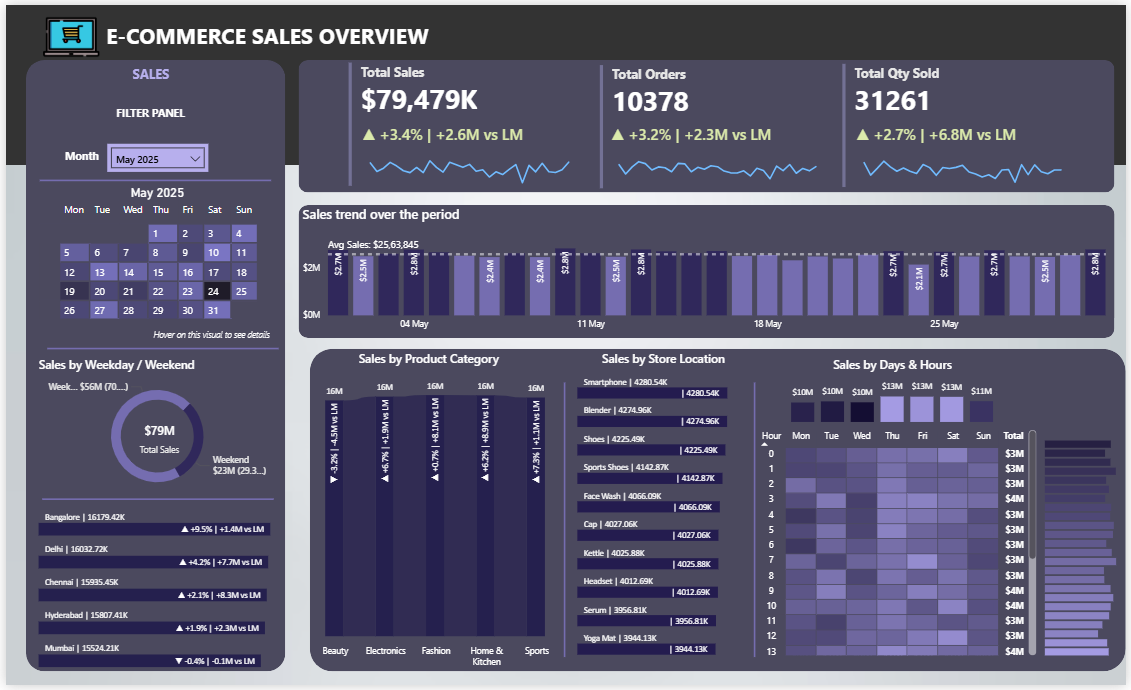

This screenshot's page, from the dashboard's own definition file:
{"tool":"powerbi","page":{"name":"Page 1","canvas":[1400,850],"ordinal":0},"visuals":[{"type":"shape","box":[0,0,1400,200],"z":0},{"type":"shape","box":[25.7,68.6,324.3,764.3],"z":1000},{"type":"shape","box":[365.7,68.6,1020,165.7],"z":2000},{"type":"textbox","box":[120,15,521.7,65],"z":3000},{"type":"cardVisual","fields":{"Data":["transactions.Total Sales"]},"box":[423.9,67.6,276.1,164.8],"z":4000},{"type":"slicer","fields":{"Values":["Date Table.month year"]},"box":[126.7,173.3,126.7,35],"z":5000},{"type":"lineChart","fields":{"Category":["Date Table.Date.Variation.Date Hierarchy.Year","Date Table.Date.Variation.Date Hierarchy.Quarter","Date Table.Date.Variation.Date Hierarchy.Month","Date Table.Date.Variation.Date Hierarchy.Day"],"Y":["transactions.Total Sales"]},"box":[441.2,148.5,277.9,85.3],"z":6000},{"type":"cardVisual","fields":{"Data":["transactions.Total Orders"]},"box":[738,70.4,276.1,164.8],"z":7000},{"type":"lineChart","fields":{"Category":["Date Table.Date.Variation.Date Hierarchy.Year","Date Table.Date.Variation.Date Hierarchy.Quarter","Date Table.Date.Variation.Date Hierarchy.Month","Date Table.Date.Variation.Date Hierarchy.Day"],"Y":["transactions.Total Orders"]},"box":[752.1,147.9,276.1,85.9],"z":8000},{"type":"cardVisual","fields":{"Data":["transactions.Total_qty_sold"]},"box":[1040.8,69,276.1,164.8],"z":9000},{"type":"lineChart","fields":{"Category":["Date Table.Date.Variation.Date Hierarchy.Year","Date Table.Date.Variation.Date Hierarchy.Quarter","Date Table.Date.Variation.Date Hierarchy.Month","Date Table.Date.Variation.Date Hierarchy.Day"],"Y":["transactions.Total Qty Sold"]},"box":[1057.7,147.9,276.1,85.9],"z":10000},{"type":"pivotTable","fields":{"Columns":["Date Table.Day Name"],"Values":["Min(Date Table.Day Number)"],"Rows":["Date Table.Week Number"]},"box":[36.9,238.5,306.2,190.8],"z":11000},{"type":"card","fields":{"Values":["Min(Date Table.Month Year)"]},"box":[120,220,138.5,29.2],"z":12000},{"type":"card","fields":{"Values":["transactions.Foot Note"]},"box":[173.8,400,167.7,29.2],"z":13000},{"type":"shape","box":[52.3,413.8,289.2,30.8],"z":14000},{"type":"shape","box":[41.5,203.1,289.2,32.3],"z":15000},{"type":"donutChart","title":"Sales by Weekday / Weekend","fields":{"Category":["Date Table.Weekday / Weekend"],"Y":["transactions.Total Sales"]},"box":[36.7,438.3,306.7,180],"z":16000},{"type":"card","fields":{"Values":["transactions.Total Sales"]},"box":[145,511.7,93.3,61.7],"z":17000},{"type":"shape","box":[44.6,601.5,289.2,32.3],"z":18000},{"type":"clusteredBarChart","title":"Sales by Store Location","fields":{"Category":["transactions.store_location"],"Y":["transactions.Paceholder","transactions.Total Sales"]},"box":[35.4,618.5,330.8,215.4],"z":19000},{"type":"shape","box":[366.2,250.8,1020,166.2],"z":20000},{"type":"columnChart","title":"Sales trend over the period","fields":{"Category":["transactions.transaction_date"],"Y":["transactions.Total Sales"]},"box":[366.2,250.8,1020,166.2],"z":21000},{"type":"shape","box":[380,430,1020,403.3],"z":22000},{"type":"ribbonChart","title":"Sales by Product Category","fields":{"Category":["transactions.product_category"],"Y":["transactions.Paceholder","transactions.Total Sales"]},"box":[350,431.7,356.7,405],"z":23000},{"type":"clusteredBarChart","title":"Sales by Store Location","fields":{"Category":["transactions.product_type"],"Y":["transactions.Paceholder","transactions.Total Sales"]},"box":[710,431.7,225,386.7],"z":24000},{"type":"shape","box":[676.7,471.7,43.3,343.3],"z":25000},{"type":"pivotTable","fields":{"Rows":["transactions.Hour"],"Columns":["Date Table.Day Name"],"Values":["transactions.Total Sales"]},"box":[935,526.7,358.3,291.7],"z":26000},{"type":"barChart","fields":{"Category":["transactions.Hour"],"Y":["transactions.Total Sales"]},"box":[1293.3,531.7,106.7,310],"z":27000},{"type":"shape","box":[913.3,471.7,43.3,343.3],"z":28000},{"type":"columnChart","title":"Sales by Days & Hours","fields":{"Y":["transactions.Total Sales"],"Category":["Date Table.Day Name"]},"box":[976.7,438.3,263.3,88.3],"z":29000},{"type":"textbox","box":[68.3,175,58.3,33.3],"z":30000},{"type":"textbox","box":[133.3,120,105,33.3],"z":31000},{"type":"textbox","box":[153.3,70,105,33.3],"z":32000},{"type":"image","box":[36.7,0,91.7,80],"z":33000}]}

Visuals, with their boxes in screenshot pixels (x1, y1, x2, y2), scaled from the page's 1400x850 canvas onto the 1131x690 screenshot:
shape: 0,0,1130,162
shape: 21,56,283,676
shape: 295,56,1119,190
textbox: 97,12,518,65
cardVisual - transactions.Total Sales: 342,55,566,189
slicer - Date Table.month year: 102,141,205,169
lineChart - Date Table.Date.Variation.Date Hierarchy.Year x Date Table.Date.Variation.Date Hierarchy.Quarter: 356,121,581,190
cardVisual - transactions.Total Orders: 596,57,819,191
lineChart - Date Table.Date.Variation.Date Hierarchy.Year x Date Table.Date.Variation.Date Hierarchy.Quarter: 608,120,831,190
cardVisual - transactions.Total_qty_sold: 841,56,1064,190
lineChart - Date Table.Date.Variation.Date Hierarchy.Year x Date Table.Date.Variation.Date Hierarchy.Quarter: 854,120,1078,190
pivotTable - Date Table.Day Name x Min(Date Table.Day Number): 30,194,277,348
card - Min(Date Table.Month Year): 97,179,209,202
card - transactions.Foot Note: 140,325,276,348
shape: 42,336,276,361
shape: 34,165,267,191
"Sales by Weekday / Weekend" donutChart: 30,356,277,502
card - transactions.Total Sales: 117,415,193,465
shape: 36,488,270,514
"Sales by Store Location" clusteredBarChart: 29,502,296,677
shape: 296,204,1120,339
"Sales trend over the period" columnChart: 296,204,1120,339
shape: 307,349,1130,676
"Sales by Product Category" ribbonChart: 283,350,571,679
"Sales by Store Location" clusteredBarChart: 574,350,755,664
shape: 547,383,582,662
pivotTable - transactions.Hour x Date Table.Day Name: 755,428,1045,664
barChart - transactions.Hour x transactions.Total Sales: 1045,432,1130,683
shape: 738,383,773,662
"Sales by Days & Hours" columnChart: 789,356,1002,427
textbox: 55,142,102,169
textbox: 108,97,193,124
textbox: 124,57,209,84
image: 30,0,104,65
